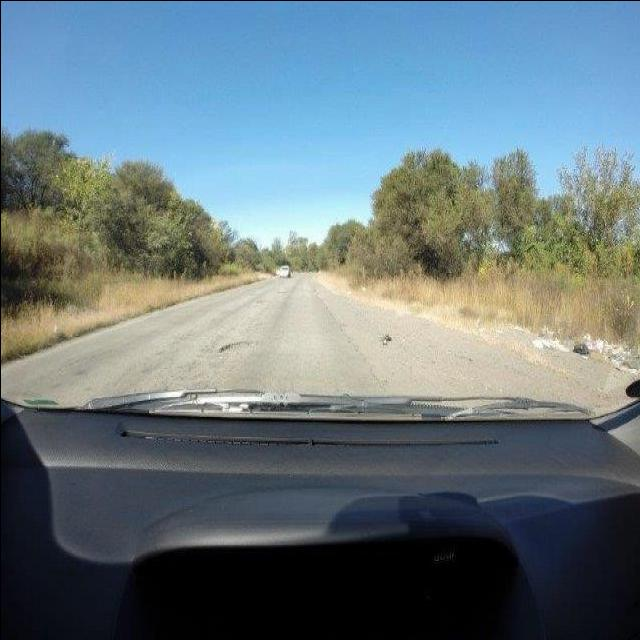lubang: (211, 336, 259, 358), (372, 324, 394, 350)
